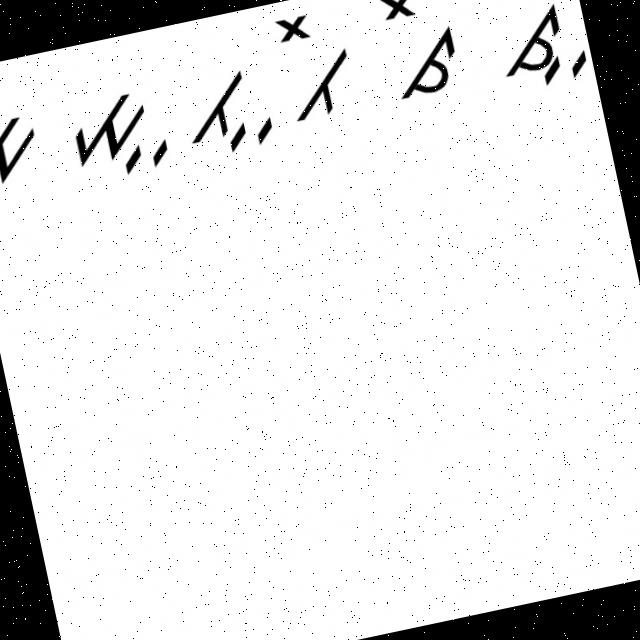bah: (172, 64, 280, 167)
bo: (266, 1, 364, 130)
cah: (483, 0, 597, 107)
co: (367, 0, 474, 126)
mah: (56, 74, 180, 195)
mo: (0, 67, 53, 198)
